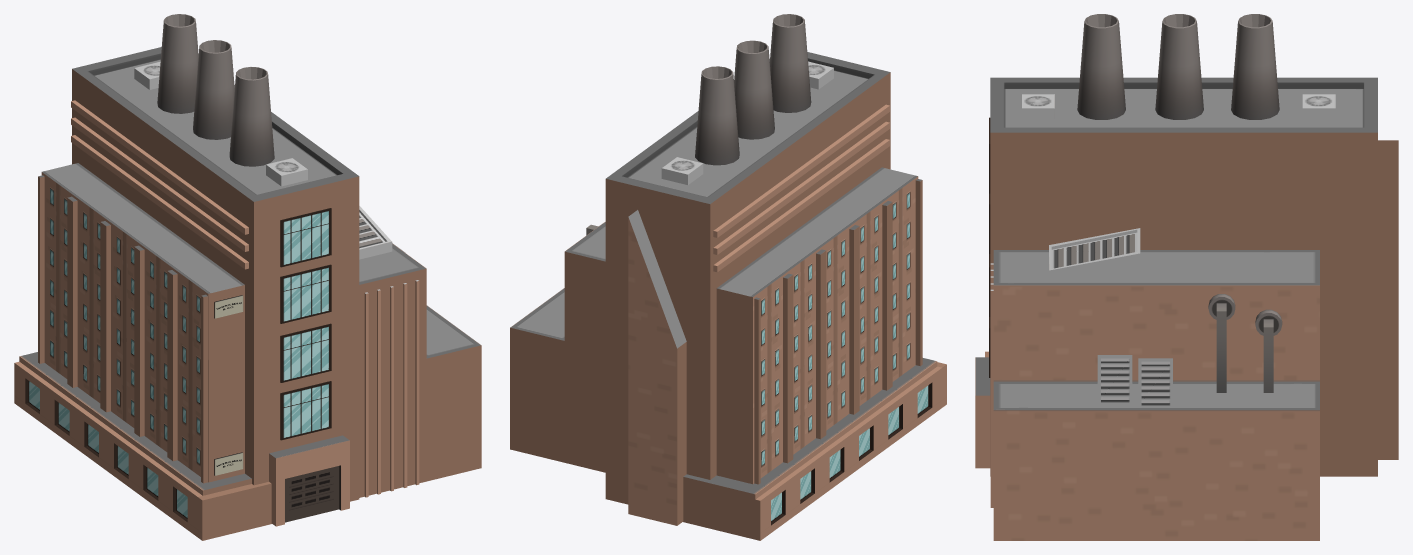
The model's file is industrial_factory_01.fbx.
3 views of the same model, side by side, from view 1: azimuth 30°, elevation 25°; view 2: azimuth 150°, elevation 25°; view 3: azimuth 270°, elevation 25° (orthographic). The views are drawn at different scales.
Parts seen in each view (by area): view 1: ind:factory01; view 2: ind:factory01; view 3: ind:factory01.
Part boxes in pixels (x1,y1,x2,y2): ind:factory01: [14, 14, 481, 540]; ind:factory01: [510, 14, 946, 540]; ind:factory01: [975, 14, 1398, 540].
Bounding box in the file's own units: 16.67 × 22.62 × 20.26.
